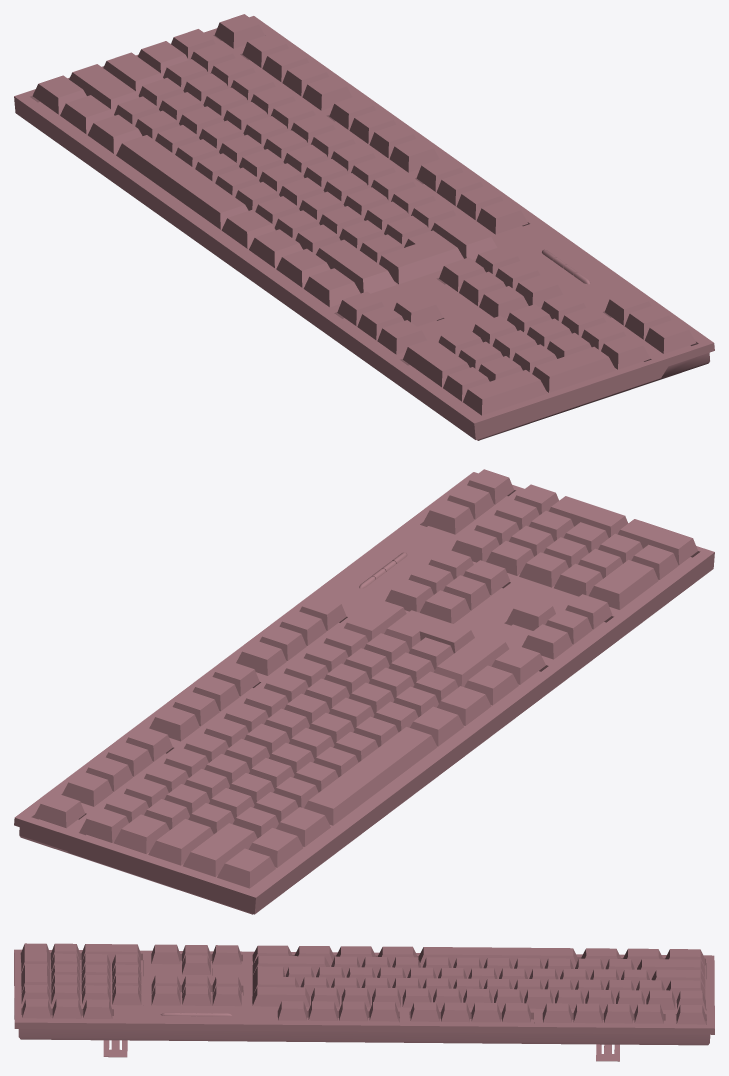
File: keyboard.fbx
3 views of the same model, one above another, from view 1: azimuth 30°, elevation 25°; view 2: azimuth 150°, elevation 25°; view 3: azimuth 270°, elevation 25° (orthographic). The views are drawn at different scales.
Visible parts, largest first — view 1: KeyBoard3; view 2: KeyBoard3; view 3: KeyBoard3.
Boxes of the visible parts, <box> form: KeyBoard3: <box>14,14,714,440</box>; KeyBoard3: <box>14,469,714,914</box>; KeyBoard3: <box>14,943,714,1061</box>.
Size of the model in its own units: 18.8 by 4.93 by 61.73.
